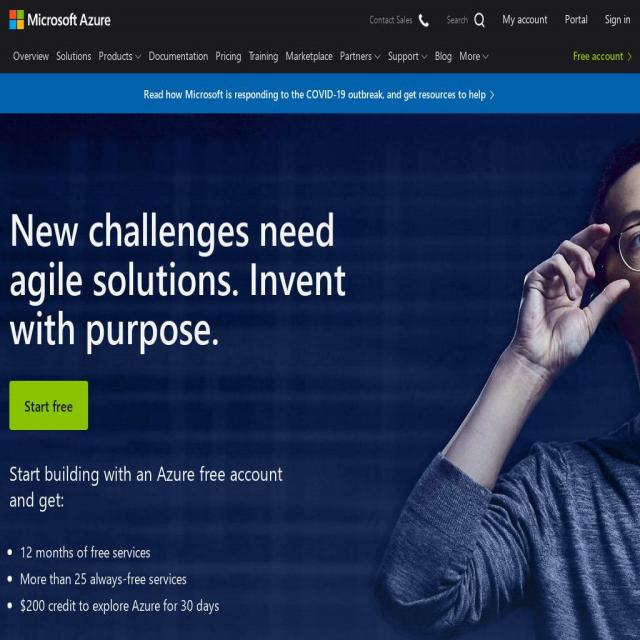login-option: (600, 5, 638, 33)
navigation-links: (10, 46, 506, 66), (361, 10, 640, 38)
search: (441, 8, 491, 34)
sign-up-option: (568, 43, 638, 65)
